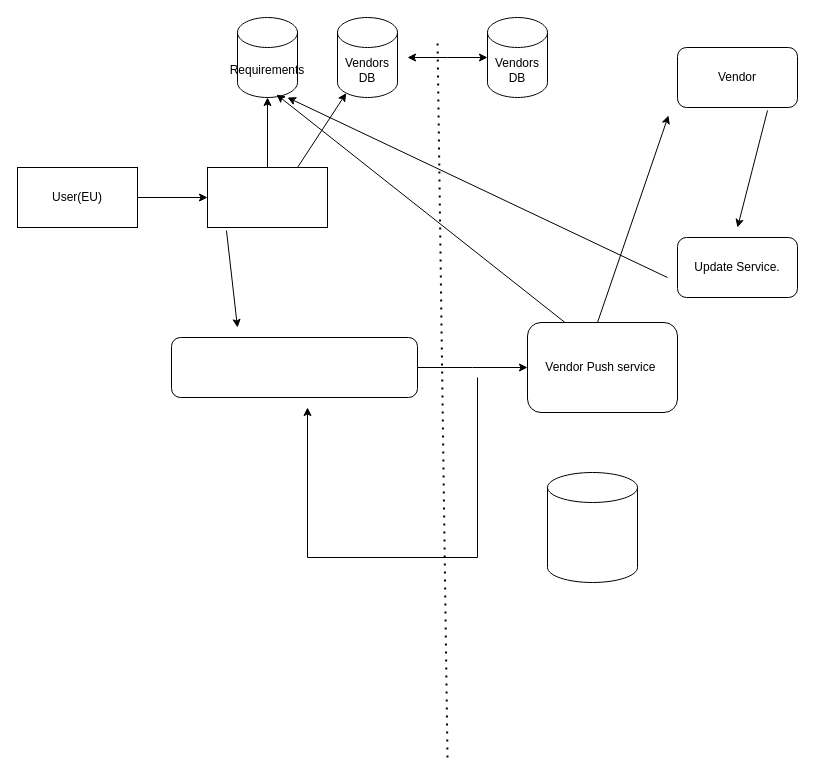
Some shapes in this 815 by 777 pixel diagram are drawn without their labels. Each missing label, with the box of its shape:
Event ( event_id, status, retry ): (546, 472, 638, 582)
Eventq (req_id, vendor_id, event_id idempotency_key): (170, 336, 418, 398)
Requirements Service: (206, 166, 328, 228)
